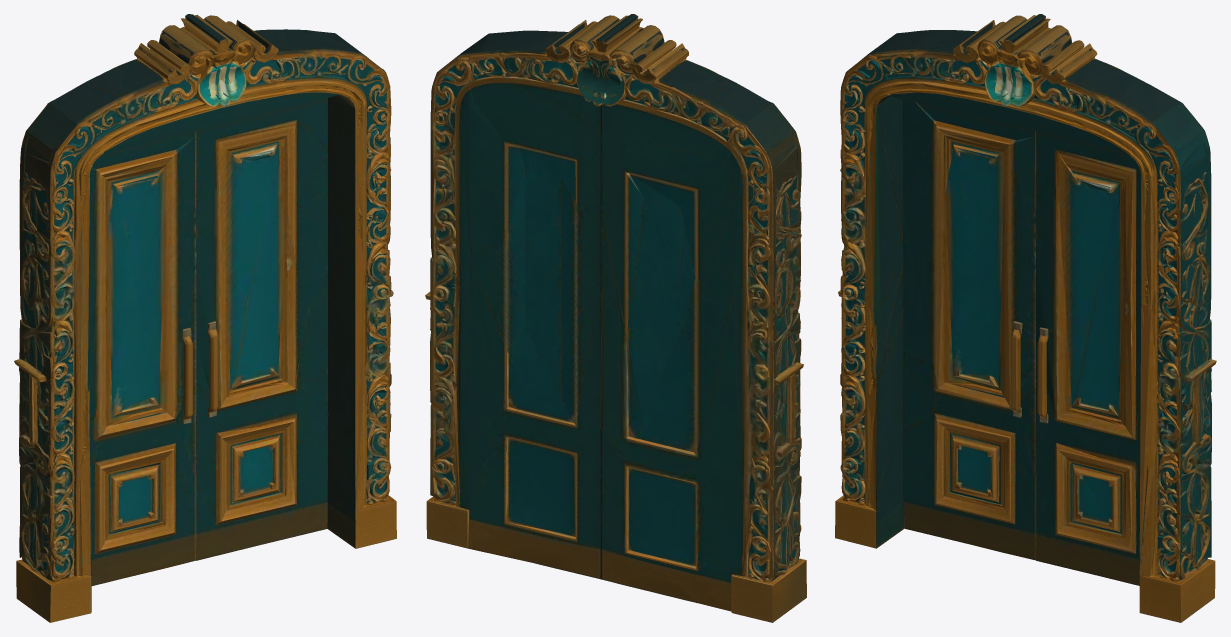
File: mx_hh_elevator.glb
The picture shows the model from 3 angles, left to right: view 1: azimuth 30°, elevation 25°; view 2: azimuth 150°, elevation 25°; view 3: azimuth 330°, elevation 25°; orthographic projection.
Size of the model in its own units: 1.3 by 1.9 by 0.2566.
1 material, 1 textured.
